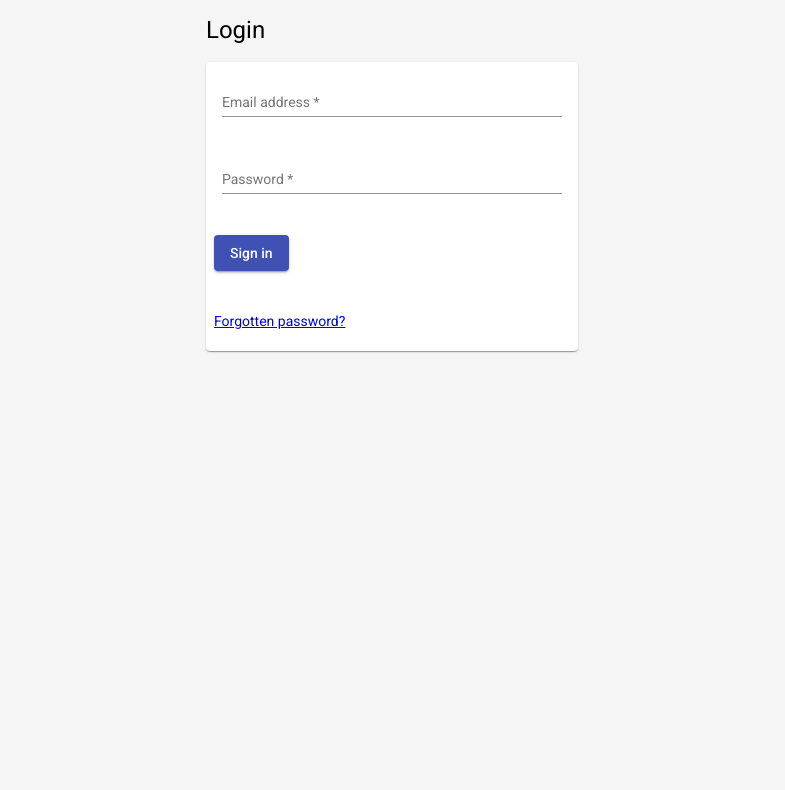
Test: /Home › As a user, I should not be able to add a new task if the input is empty
The image size is (785, 790).
Type "test@carelinelive.com" into the field with test id "Email".
click(392, 103); type("test@carelinelive.com")  # box x1=222 y1=95 x2=562 y2=111
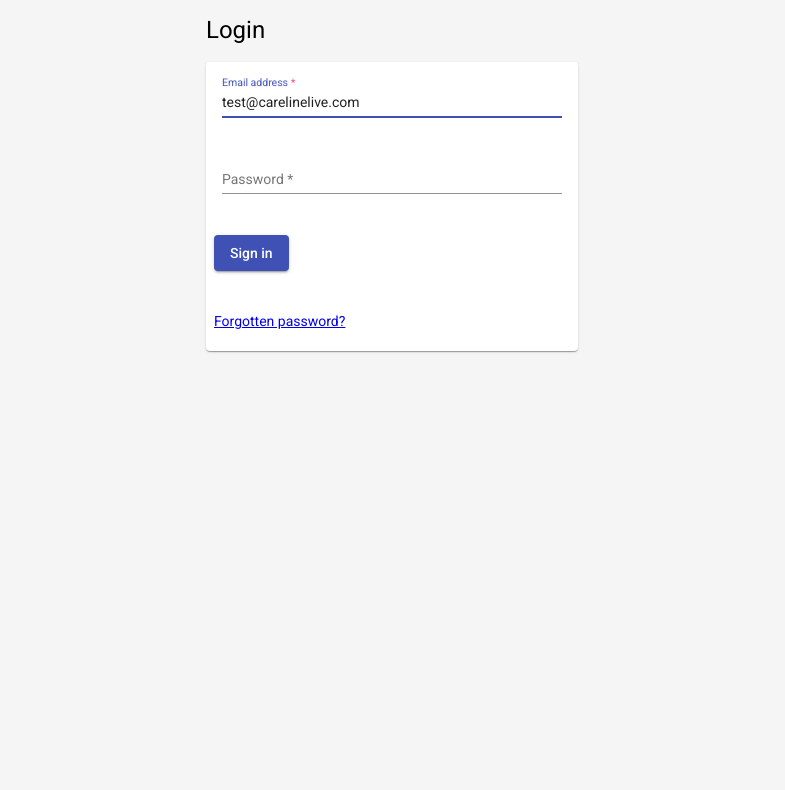
Type "password" into the password field with test id "Password".
click(392, 180); type("password")  # box x1=222 y1=172 x2=562 y2=188
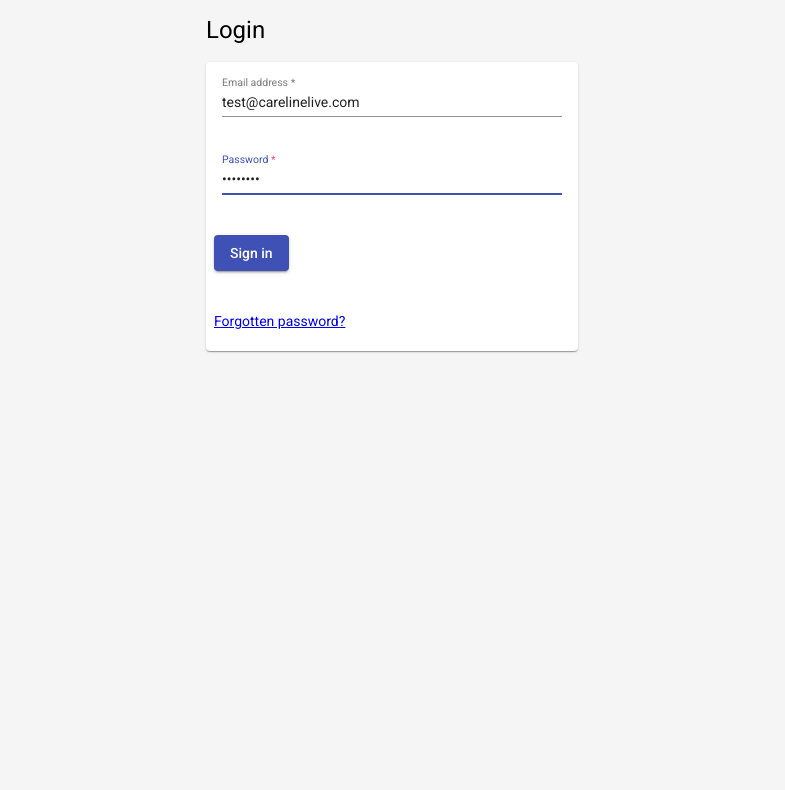
Click the button with test id "Submit".
click(252, 253)  # box x1=214 y1=235 x2=289 y2=271
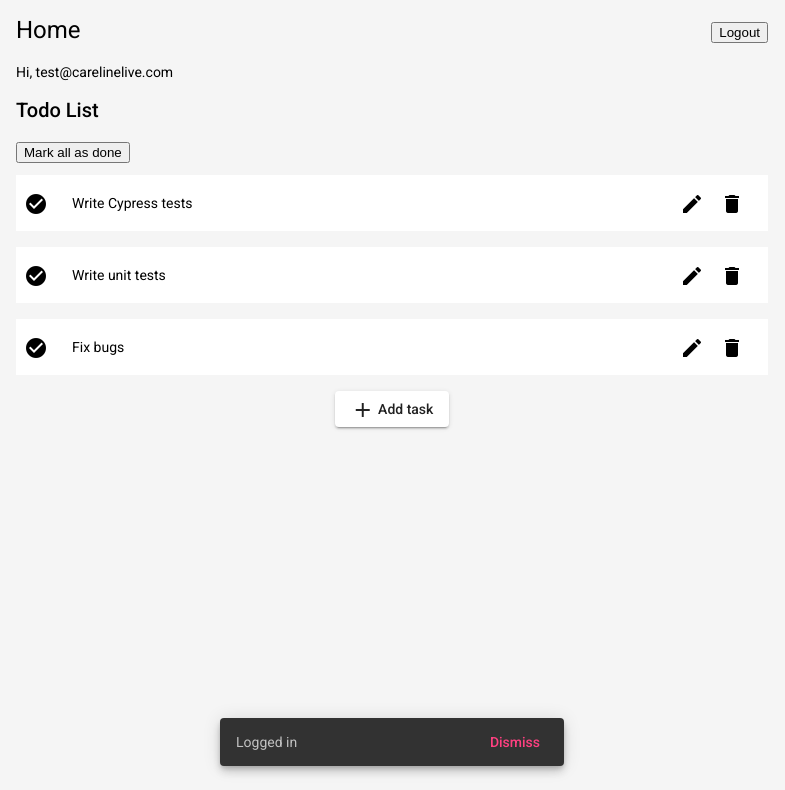
Check: the header with test id "Home" is shown, box x1=16 y1=16 x2=768 y2=44
Click the button with test id "AddTaskButton".
click(393, 409)  # box x1=335 y1=391 x2=450 y2=427
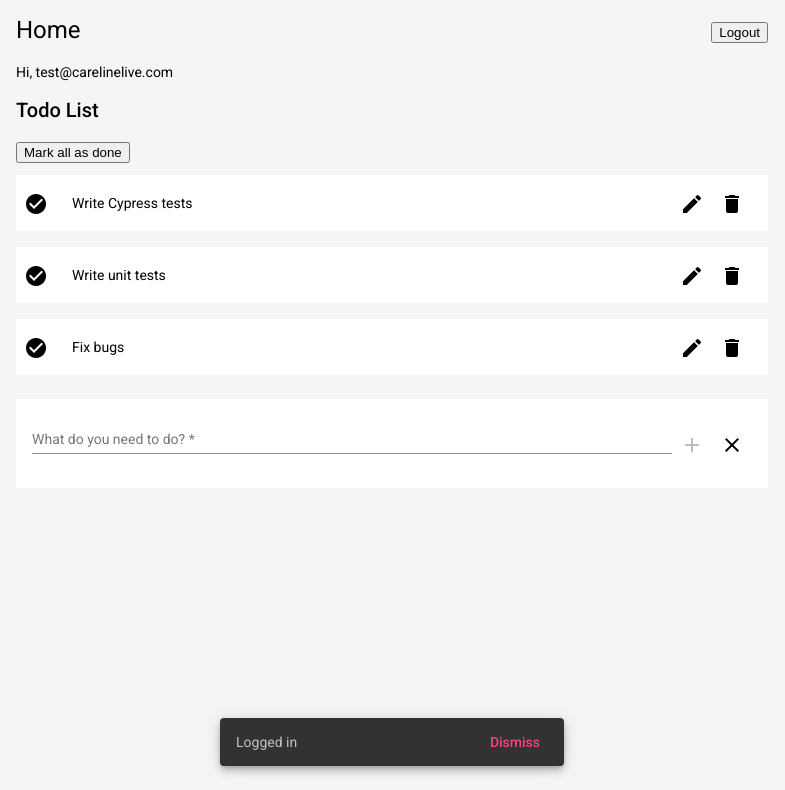
Check: the field with test id "AddTaskInput" is shown, box x1=32 y1=432 x2=672 y2=448
Check: the button with test id "SubmitAddTask" is disabled, box x1=672 y1=423 x2=712 y2=463
